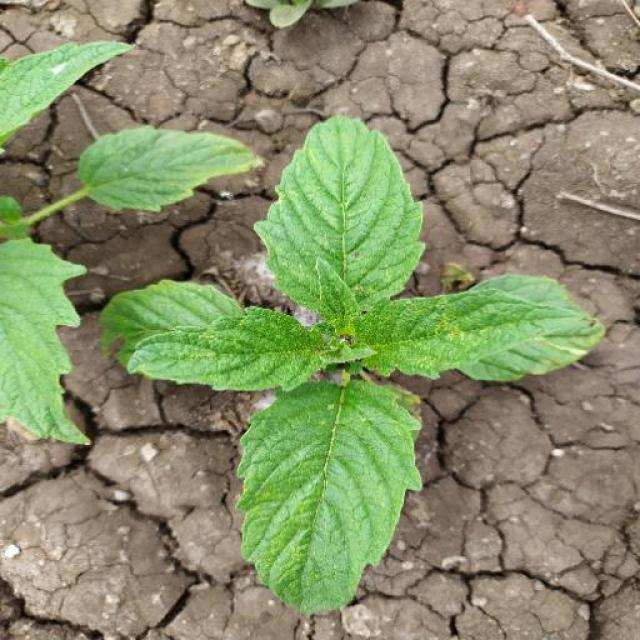crop: (124, 107, 605, 595)
